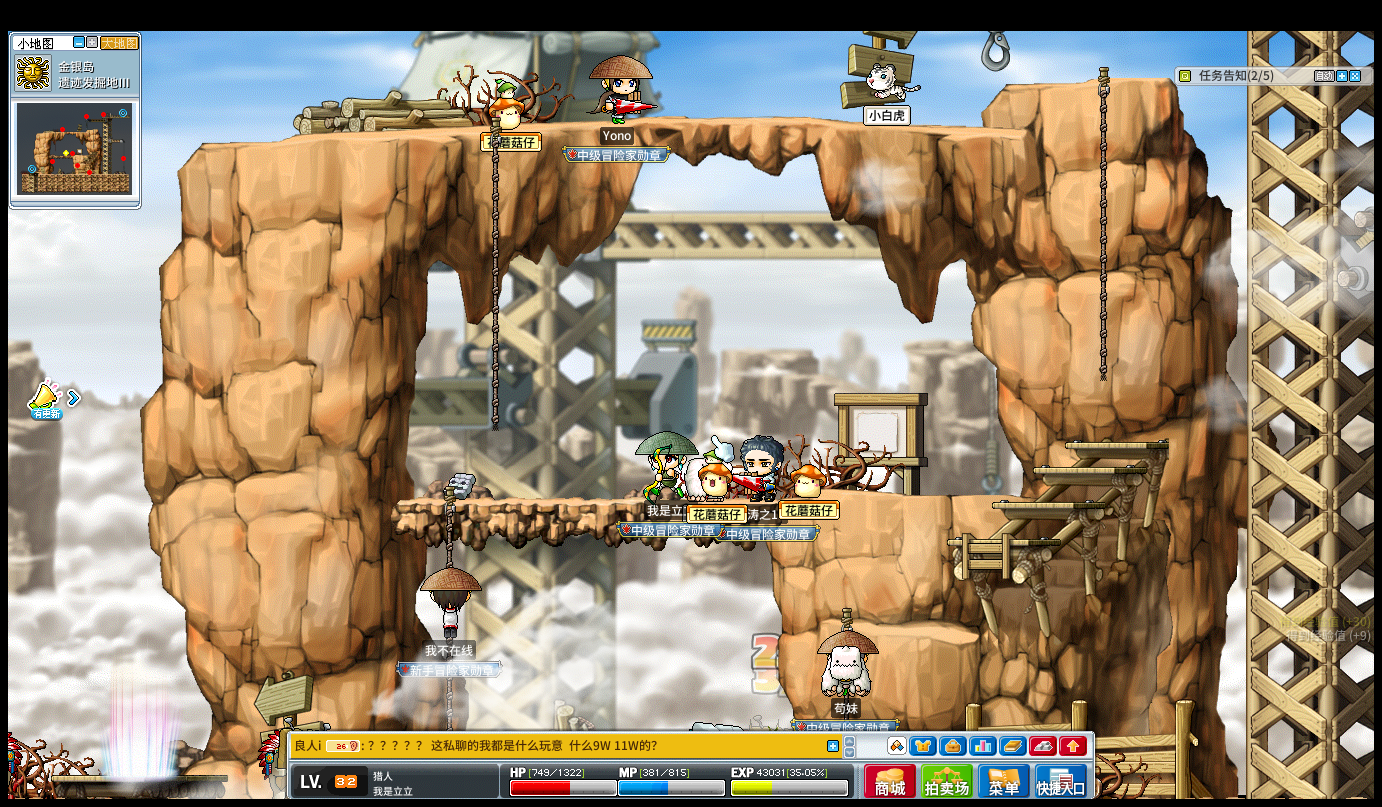floor: (187, 111, 1040, 145), (389, 497, 779, 508), (1001, 73, 1172, 87), (871, 622, 978, 644), (871, 491, 1026, 500), (945, 533, 1060, 545), (1063, 438, 1167, 449), (991, 498, 1102, 508), (1028, 464, 1144, 473)
rope: (1095, 61, 1109, 388), (489, 107, 500, 429), (440, 490, 455, 568)
